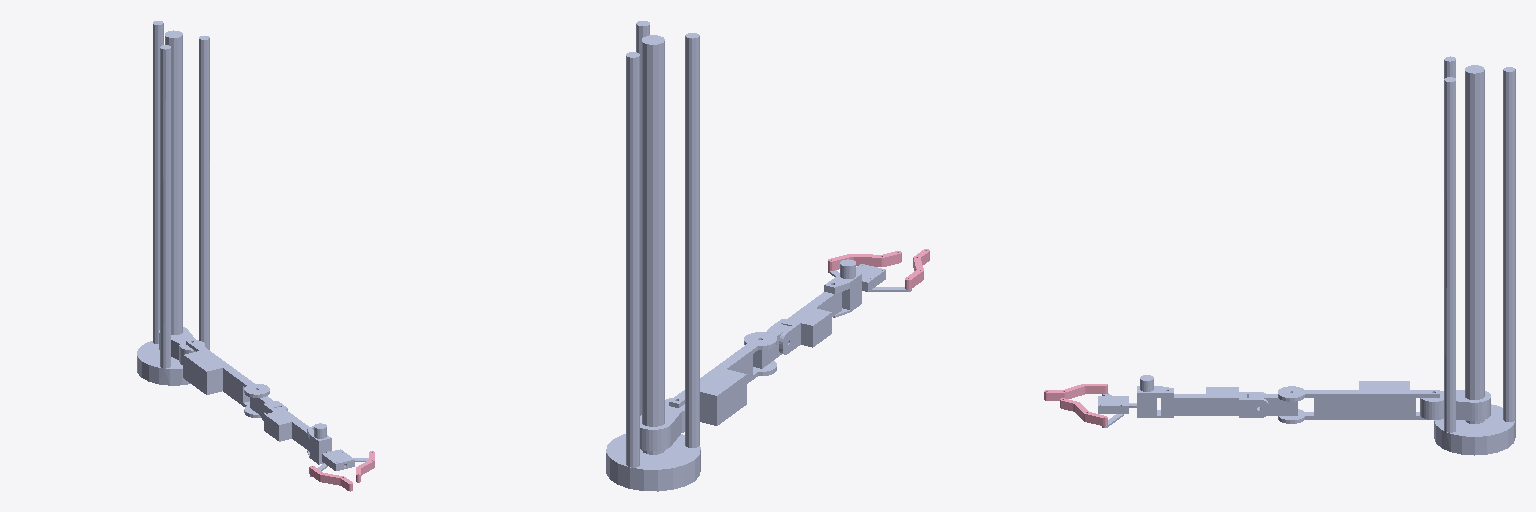
The robot description file, URDF, robot "brc_arm_description":
<?xml version="1.0" encoding="utf-8"?>
<!-- This URDF was automatically created by SolidWorks to URDF Exporter! Originally created by [author] ([email redacted]) 
     Commit Version: 1.6.0-1-g15f4949  Build Version: 1.6.7594.29634
     For more information, please see http://wiki.ros.org/sw_urdf_exporter -->
<robot name="brc_arm_description">
  <link name="world" />

  <joint name="world_to_base" type="fixed">
    <parent link="world"/>
    <child link="base_link"/>
  </joint>

  <link name="base_link">
    <inertial>
      <origin xyz="-2.11343969456389E-17 0.380907780979827 0.00436320369577436" rpy="0 0 0" />
      <mass value="5.45066325397829" />
      <inertia ixx="0.585603075889073" ixy="1.11438534941001E-18" ixz="2.82887074164515E-18" iyy="0.0231148604746449" iyz="-0.00342685216919011" izz="0.580821568393074" />
    </inertial>
    <visual>
      <origin xyz="0 0 0" rpy="0 0 0" />
      <geometry>
        <mesh filename="package://brc_arm_description/meshes/base_link.STL" />
      </geometry>
      <material name="">
        <color rgba="0.792156862745098 0.819607843137255 0.933333333333333 1" />
      </material>
    </visual>
    <collision>
      <origin xyz="0 0 0" rpy="0 0 0" />
      <geometry>
        <mesh filename="package://brc_arm_description/meshes/base_link.STL" />
      </geometry>
    </collision>
  </link>
  <link name="carriage">
    <inertial>
      <origin xyz="2.54221011075845E-18 0.025 0.0539046334093021" rpy="0 0 0" />
      <mass value="0.447720870142158" />
      <inertia ixx="0.00109900282993972" ixy="8.14695699840894E-21" ixz="1.47343826082545E-20" iyy="0.00119322484755841" iyz="-3.342955089797E-22" izz="0.000280772380177922" />
    </inertial>
    <visual>
      <origin xyz="0 0 0" rpy="0 0 0" />
      <geometry>
        <mesh filename="package://brc_arm_description/meshes/carriage.STL" />
      </geometry>
      <material name="">
        <color rgba="0.792156862745098 0.819607843137255 0.933333333333333 1" />
      </material>
    </visual>
    <collision>
      <origin xyz="0 0 0" rpy="0 0 0" />
      <geometry>
        <mesh filename="package://brc_arm_description/meshes/carriage.STL" />
      </geometry>
    </collision>
  </link>
  <joint name="carriageJ" type="prismatic">
    <origin xyz="0 0 0.065" rpy="1.5708 0 0" />
    <parent link="base_link" />
    <child link="carriage" />
    <axis xyz="0 1 0" />
    <limit lower="0" upper="0.885" effort="10" velocity="0.5" />
  </joint>
  <link name="midarm1">
    <inertial>
      <origin xyz="-0.159701601070546 0.0249999999999995 -0.0165852560799679" rpy="0 0 0" />
      <mass value="0.989206914918607" />
      <inertia ixx="0.000943765598063704" ixy="1.34398360332114E-18" ixz="0.000610338767563651" iyy="0.0075546869758055" iyz="-1.74522921257232E-19" izz="0.0075329806065106" />
    </inertial>
    <visual>
      <origin xyz="0 0 0" rpy="0 0 0" />
      <geometry>
        <mesh filename="package://brc_arm_description/meshes/midarm1.STL" />
      </geometry>
      <material name="">
        <color rgba="0.792156862745098 0.819607843137255 0.933333333333333 1" />
      </material>
    </visual>
    <collision>
      <origin xyz="0 0 0" rpy="0 0 0" />
      <geometry>
        <mesh filename="package://brc_arm_description/meshes/midarm1.STL" />
      </geometry>
    </collision>
  </link>
  <joint name="midarm1J" type="continuous">
    <origin xyz="0 0 0.1" rpy="0 1.5708 0" />
    <parent link="carriage" />
    <child link="midarm1" />
    <axis xyz="0 1 0" />
    <limit lower="0" upper="6.283" effort="10" velocity="0.5" />
  </joint>
  <link name="midarm2">
    <inertial>
      <origin xyz="0.0449212345365615 -0.0253103856032611 -1.45232730548053E-16" rpy="0 0 0" />
      <mass value="0.141963495408494" />
      <inertia ixx="3.70449285832413E-05" ixy="2.43267434930873E-06" ixz="8.1024723690131E-21" iyy="0.000170530553349407" iyz="-2.75934099765684E-21" izz="0.000192427643669373" />
    </inertial>
    <visual>
      <origin xyz="0 0 0" rpy="0 0 0" />
      <geometry>
        <mesh filename="package://brc_arm_description/meshes/midarm2.STL" />
      </geometry>
      <material name="">
        <color rgba="0.792156862745098 0.819607843137255 0.933333333333333 1" />
      </material>
    </visual>
    <collision>
      <origin xyz="0 0 0" rpy="0 0 0" />
      <geometry>
        <mesh filename="package://brc_arm_description/meshes/midarm2.STL" />
      </geometry>
    </collision>
  </link>
  <joint name="midarm2J" type="continuous">
    <origin xyz="-0.35 0 0" rpy="0 0 -3.1416" />
    <parent link="midarm1" />
    <child link="midarm2" />
    <axis xyz="0 1 0" />
    <limit lower="0" upper="6.283" effort="10" velocity="0.5" />
  </joint>
  <link name="wrist1">
    <inertial>
      <origin xyz="0.102261852760838 5.55111512312578E-17 -0.0106433368332069" rpy="0 0 0" />
      <mass value="0.488568583470577" />
      <inertia ixx="0.000271976776615562" ixy="-9.58628476651825E-19" ixz="-6.37616343563583E-05" iyy="0.00203807956523635" iyz="-1.44134546530286E-20" izz="0.00196874683347988" />
    </inertial>
    <visual>
      <origin xyz="0 0 0" rpy="0 0 0" />
      <geometry>
        <mesh filename="package://brc_arm_description/meshes/wrist1.STL" />
      </geometry>
      <material name="">
        <color rgba="0.792156862745098 0.819607843137255 0.933333333333333 1" />
      </material>
    </visual>
    <collision>
      <origin xyz="0 0 0" rpy="0 0 0" />
      <geometry>
        <mesh filename="package://brc_arm_description/meshes/wrist1.STL" />
      </geometry>
    </collision>
  </link>
  <joint name="wrist1J" type="revolute">
    <origin xyz="0.08 -0.025 0" rpy="0 0 0" />
    <parent link="midarm2" />
    <child link="wrist1" />
    <axis xyz="0 0 1" />
    <limit lower="0" upper="1.57079632679" effort="10" velocity="0.5" />
  </joint>
  <link name="wrist2">
    <inertial>
      <origin xyz="0.0450280262277557 0.0138835798459232 0.00701326299384444" rpy="0 0 0" />
      <mass value="0.195554532888646" />
      <inertia ixx="0.000160518318477719" ixy="4.90165740092502E-06" ixz="-2.89393984428497E-06" iyy="0.00010168972371044" iyz="4.73434638107085E-08" izz="0.000214765494358691" />
    </inertial>
    <visual>
      <origin xyz="0 0 0" rpy="0 0 0" />
      <geometry>
        <mesh filename="package://brc_arm_description/meshes/wrist2.STL" />
      </geometry>
      <material name="">
        <color rgba="0.792156862745098 0.819607843137255 0.933333333333333 1" />
      </material>
    </visual>
    <collision>
      <origin xyz="0 0 0" rpy="0 0 0" />
      <geometry>
        <mesh filename="package://brc_arm_description/meshes/wrist2.STL" />
      </geometry>
    </collision>
  </link>
  <joint name="wrist2J" type="continuous">
    <origin xyz="0.225 0 0" rpy="-3.1416 0 0" />
    <parent link="wrist1" />
    <child link="wrist2" />
    <axis xyz="0 1 0" />
    <limit lower="0" upper="6.283" effort="10" velocity="0.5" />
  </joint>
  <link name="EEbase">
    <inertial>
      <origin xyz="-6.67754378663832E-17 2.77555756156289E-17 -0.0378694927465382" rpy="0 0 0" />
      <mass value="0.09260447609595" />
      <inertia ixx="4.81318826783347E-05" ixy="-3.52329631201495E-21" ixz="-6.17781188850379E-21" iyy="7.32482359165229E-05" iyz="2.30793069866546E-20" izz="3.29932559448167E-05" />
    </inertial>
    <visual>
      <origin xyz="0 0 0" rpy="0 0 0" />
      <geometry>
        <mesh filename="package://brc_arm_description/meshes/EEbase.STL" />
      </geometry>
      <material name="">
        <color rgba="0.792156862745098 0.819607843137255 0.933333333333333 1" />
      </material>
    </visual>
    <collision>
      <origin xyz="0 0 0" rpy="0 0 0" />
      <geometry>
        <mesh filename="package://brc_arm_description/meshes/EEbase.STL" />
      </geometry>
    </collision>
  </link>
  <joint name="EEbaseJ" type="continuous">
    <origin xyz="0.095 0 0" rpy="0 -1.5708 0" />
    <parent link="wrist2" />
    <child link="EEbase" />
    <axis xyz="0 0 1" />
    <limit lower="0" upper="0" effort="10" velocity="0.5" />
  </joint>
  <link name="RLink1">
    <inertial>
      <origin xyz="0.0400000000000037 -0.00250000000000015 -6.66133814775094E-16" rpy="0 0 0" />
      <mass value="0.00668722339297274" />
      <inertia ixx="1.38550163626322E-07" ixy="-2.80847215529844E-22" ixz="1.32203765077796E-20" iyy="4.66129432520501E-06" iyz="6.59485655849877E-23" izz="4.55060759238274E-06" />
    </inertial>
    <visual>
      <origin xyz="0 0 0" rpy="0 0 0" />
      <geometry>
        <mesh filename="package://brc_arm_description/meshes/RLink1.STL" />
      </geometry>
      <material name="">
        <color rgba="0.792156862745098 0.819607843137255 0.933333333333333 1" />
      </material>
    </visual>
    <collision>
      <origin xyz="0 0 0" rpy="0 0 0" />
      <geometry>
        <mesh filename="package://brc_arm_description/meshes/RLink1.STL" />
      </geometry>
    </collision>
  </link>
  <joint name="RLink1J" type="revolute">
    <origin xyz="0.024 -0.011 -0.019185" rpy="0 0 0" />
    <parent link="EEbase" />
    <child link="RLink1" />
    <axis xyz="0 1 0" />
    <limit lower="-6.283" upper="-5.242" effort="10" velocity="0.5" />
  </joint>
  <link name="RFinger">
    <inertial>
      <origin xyz="0.0174831476155701 0.0707338411471631 -0.0109999999999996" rpy="0 0 0" />
      <mass value="0.052748844949343" />
      <inertia ixx="9.60936833531591E-05" ixy="-3.36352218446776E-05" ixz="-3.82273712059081E-20" iyy="1.6892750542267E-05" iyz="-1.04902516665487E-19" izz="0.000108731360402846" />
    </inertial>
    <visual>
      <origin xyz="0 0 0" rpy="0 0 0" />
      <geometry>
        <mesh filename="package://brc_arm_description/meshes/RFinger.STL" />
      </geometry>
      <material name="">
        <color rgba="1 0.717647058823529 0.819607843137255 1" />
      </material>
    </visual>
    <collision>
      <origin xyz="0 0 0" rpy="0 0 0" />
      <geometry>
        <mesh filename="package://brc_arm_description/meshes/RFinger.STL" />
      </geometry>
    </collision>
  </link>
  <joint name="RFingerJ" type="revolute">
    <origin xyz="0.08 0 0" rpy="-1.5708 0 3.1416" />
    <parent link="RLink1" />
    <child link="RFinger" />
    <axis xyz="0 0 1" />
    <limit lower="0" upper="0" effort="10" velocity="0.5" />
    <mimic joint="RLink1J" multiplier="1" offset="0" />
  </joint>
  <link name="LLink1">
    <inertial>
      <origin xyz="-0.0399999999999939 -0.00250000000000013 0" rpy="0 0 0" />
      <mass value="0.00668722339297275" />
      <inertia ixx="1.38550163626322E-07" ixy="4.17613575070295E-23" ixz="7.26972165963073E-22" iyy="4.66129432520502E-06" iyz="9.1233885874819E-23" izz="4.55060759238275E-06" />
    </inertial>
    <visual>
      <origin xyz="0 0 0" rpy="0 0 0" />
      <geometry>
        <mesh filename="package://brc_arm_description/meshes/LLink1.STL" />
      </geometry>
      <material name="">
        <color rgba="0.792156862745098 0.819607843137255 0.933333333333333 1" />
      </material>
    </visual>
    <collision>
      <origin xyz="0 0 0" rpy="0 0 0" />
      <geometry>
        <mesh filename="package://brc_arm_description/meshes/LLink1.STL" />
      </geometry>
    </collision>
  </link>
  <joint name="LLink1J" type="revolute">
    <origin xyz="-0.024 -0.011 -0.019185" rpy="0 0 0" />
    <parent link="EEbase" />
    <child link="LLink1" />
    <axis xyz="0 1 0" />
    <limit lower="0" upper="0" effort="10" velocity="0.5" />
    <mimic joint="RLink1J" multiplier="-1" offset="0" />
  </joint>
  <link name="LFinger">
    <inertial>
      <origin xyz="0.0174831476155641 0.070733841147171 0.0109999999999999" rpy="0 0 0" />
      <mass value="0.052748844949343" />
      <inertia ixx="9.60936833531594E-05" ixy="-3.36352218446776E-05" ixz="1.57064639602602E-20" iyy="1.6892750542267E-05" iyz="3.95311469569102E-20" izz="0.000108731360402846" />
    </inertial>
    <visual>
      <origin xyz="0 0 0" rpy="0 0 0" />
      <geometry>
        <mesh filename="package://brc_arm_description/meshes/LFinger.STL" />
      </geometry>
      <material name="">
        <color rgba="1 0.717647058823529 0.819607843137255 1" />
      </material>
    </visual>
    <collision>
      <origin xyz="0 0 0" rpy="0 0 0" />
      <geometry>
        <mesh filename="package://brc_arm_description/meshes/LFinger.STL" />
      </geometry>
    </collision>
  </link>
  <joint name="LFingerJ" type="revolute">
    <origin xyz="-0.08 0 0" rpy="-1.5708 0 0" />
    <parent link="LLink1" />
    <child link="LFinger" />
    <axis xyz="0 0 1" />
    <limit lower="0" upper="0" effort="10" velocity="0.5" />
    <mimic joint="LLink1J" multiplier="-1" offset="0" />
  </joint>
</robot>

--- Render facts (derived) ---
3 views of the same robot in one strip: view 1: azimuth 30°, elevation 25°; view 2: azimuth 150°, elevation 25°; view 3: azimuth 270°, elevation 25° (orthographic).
Robot: brc_arm_description — 12 links, 11 joints (5 revolute, 4 continuous, 1 prismatic, 1 fixed); root link world; default pose: all joints at 0 but 1 set to mid-range because 0 is outside their limits (RLink1J = -5.76, RFingerJ = -5.76, LLink1J = 5.76).
Visible links, largest first — view 1: base_link, midarm1, wrist1, wrist2, carriage; view 2: base_link, midarm1, wrist1, carriage, wrist2, LFinger, midarm2, EEbase; view 3: base_link, midarm1, wrist1, carriage, wrist2, RFinger, midarm2, LFinger, EEbase.
Link boxes in pixels (left/top/right/bottom): base_link: left=137, top=21, right=209, bottom=385; midarm1: left=183, top=339, right=269, bottom=417; wrist1: left=260, top=401, right=309, bottom=451; wrist2: left=307, top=423, right=331, bottom=464; carriage: left=159, top=327, right=204, bottom=364; base_link: left=606, top=21, right=700, bottom=491; midarm1: left=669, top=332, right=776, bottom=425; wrist1: left=766, top=292, right=841, bottom=354; carriage: left=640, top=398, right=684, bottom=451; wrist2: left=824, top=259, right=861, bottom=317; LFinger: left=828, top=251, right=901, bottom=270; midarm2: left=753, top=324, right=790, bottom=368; EEbase: left=856, top=264, right=885, bottom=291; base_link: left=1434, top=56, right=1515, bottom=455; midarm1: left=1278, top=381, right=1439, bottom=423; wrist1: left=1161, top=387, right=1268, bottom=417; carriage: left=1420, top=390, right=1490, bottom=420; wrist2: left=1129, top=375, right=1173, bottom=417; RFinger: left=1044, top=384, right=1107, bottom=400; midarm2: left=1249, top=394, right=1297, bottom=415; LFinger: left=1060, top=398, right=1107, bottom=426; EEbase: left=1098, top=396, right=1128, bottom=413.
Bounding box of the posed robot: 0.2018 × 1.16 × 1 m (x, y, z).
Meshes: 11 distinct files referenced, 11 mesh visuals loaded (11 binary STL).